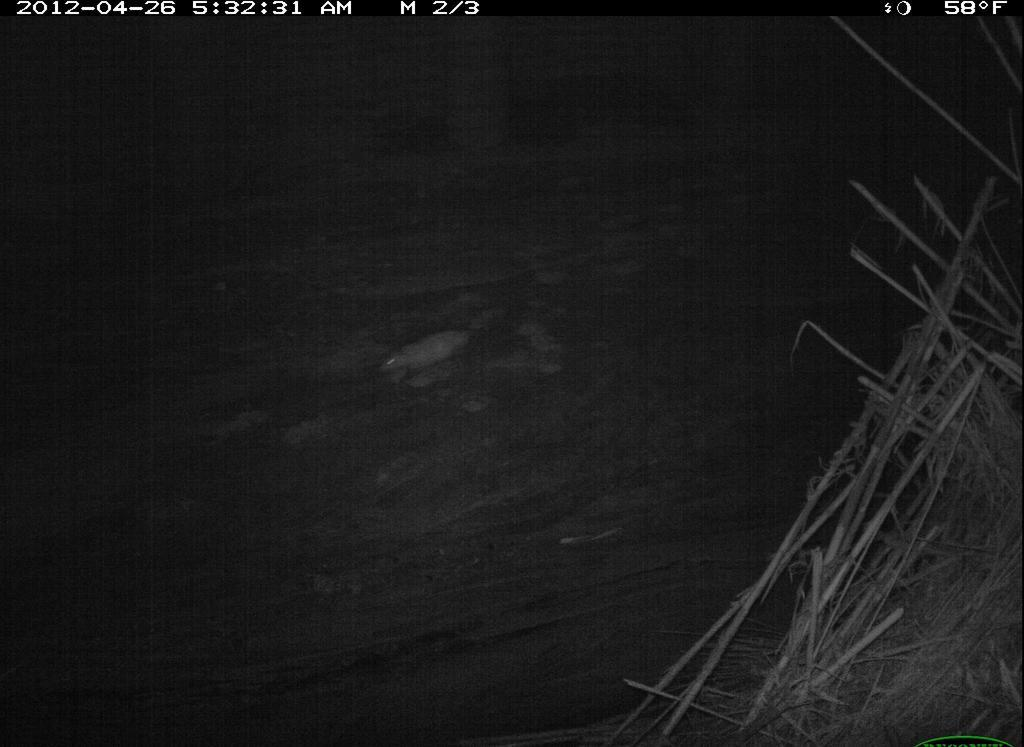opossum: (380, 328, 480, 383)
